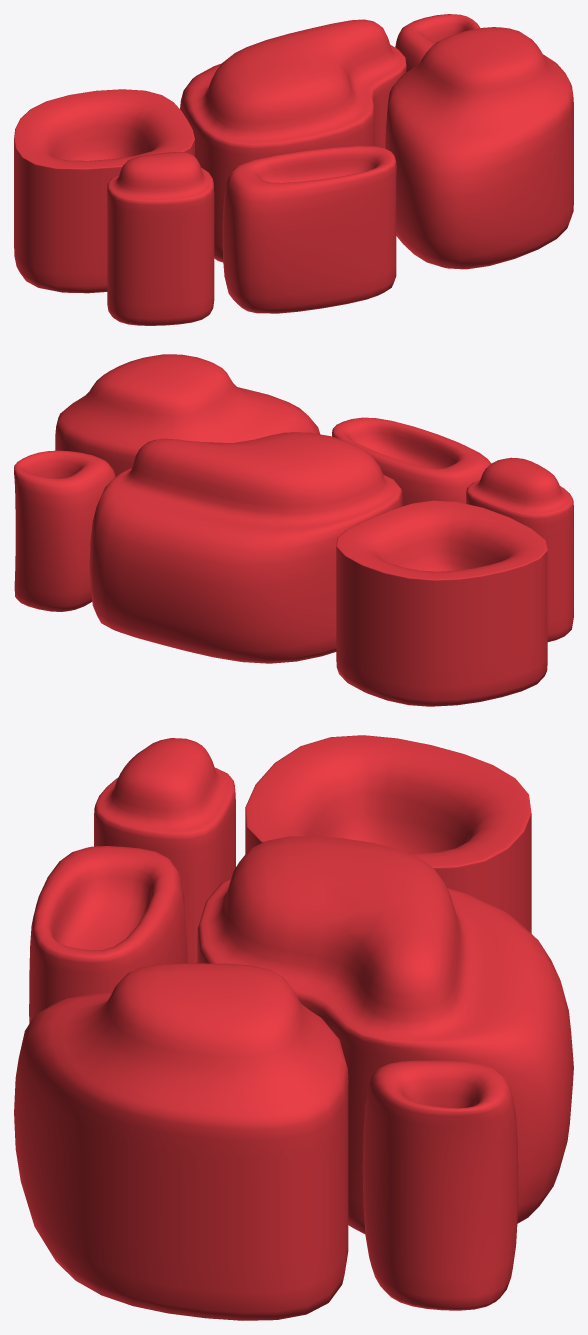
File: CelulasRojas1.fbx
3 views of the same model, one above another, from view 1: azimuth 30°, elevation 25°; view 2: azimuth 150°, elevation 25°; view 3: azimuth 270°, elevation 25° (orthographic). The views are drawn at different scales.
Visible parts, largest first — view 1: CelulasRojas1; view 2: CelulasRojas1; view 3: CelulasRojas1.
Part boxes in pixels (x1,y1,x2,y2): CelulasRojas1: [14, 14, 573, 325]; CelulasRojas1: [14, 354, 573, 706]; CelulasRojas1: [14, 735, 573, 1320].
Bounding box in the file's own units: 2.25 × 0.7514 × 1.36.
